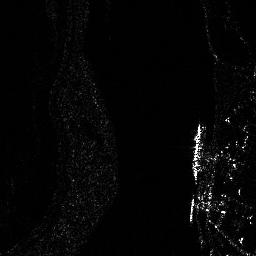ship: (190, 123, 204, 184), (187, 199, 195, 222)
